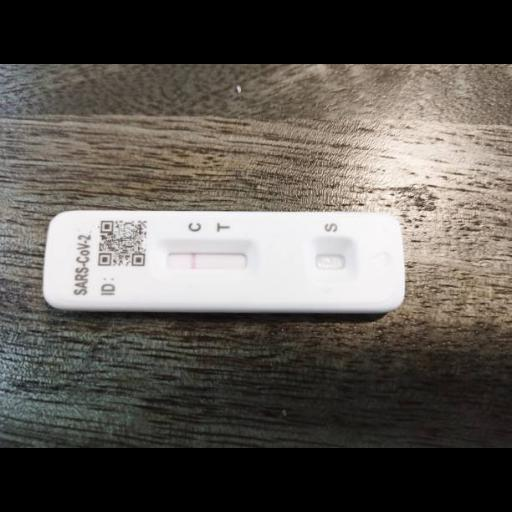Neg: (48, 206, 408, 310)
